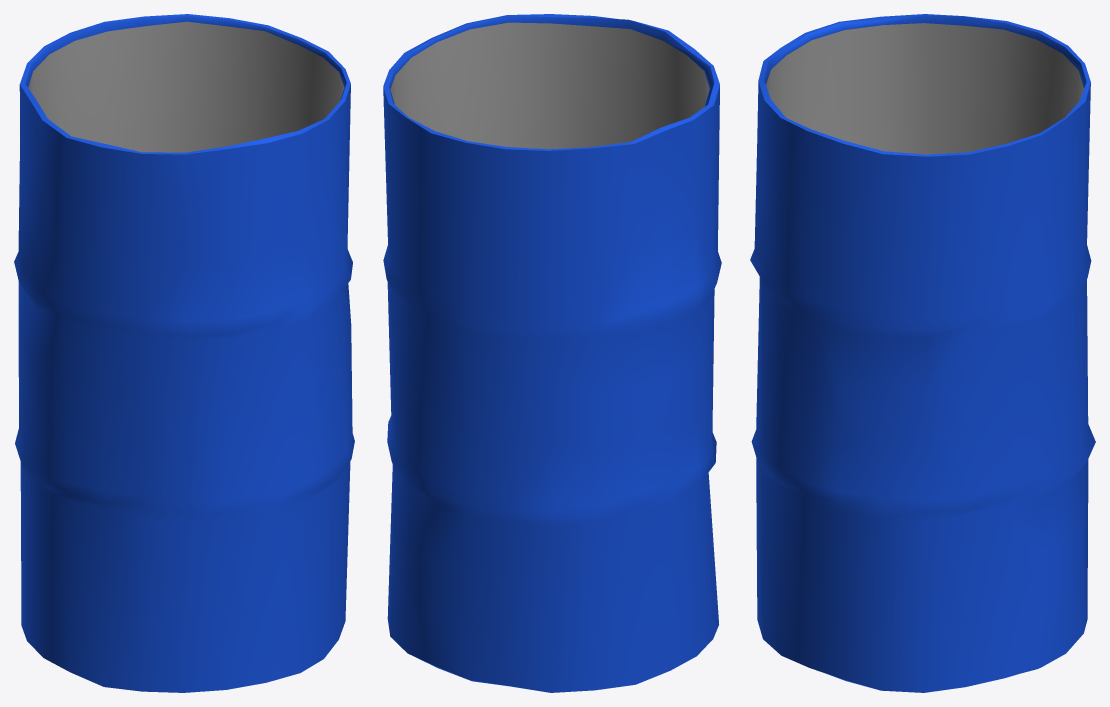
The model's file is barrel_open_2mat_damage2.fbx.
3 views of the same model, side by side, from view 1: azimuth 30°, elevation 25°; view 2: azimuth 150°, elevation 25°; view 3: azimuth 270°, elevation 25° (orthographic).
Parts seen in each view (by area): view 1: barrel_open_2mat_damage2; view 2: barrel_open_2mat_damage2; view 3: barrel_open_2mat_damage2.
Part boxes in pixels (bbox=[...]): barrel_open_2mat_damage2: bbox=[14, 14, 354, 692]; barrel_open_2mat_damage2: bbox=[383, 14, 721, 692]; barrel_open_2mat_damage2: bbox=[750, 14, 1095, 692].
Bounding box in the file's own units: 51.22 × 90.16 × 51.68.
